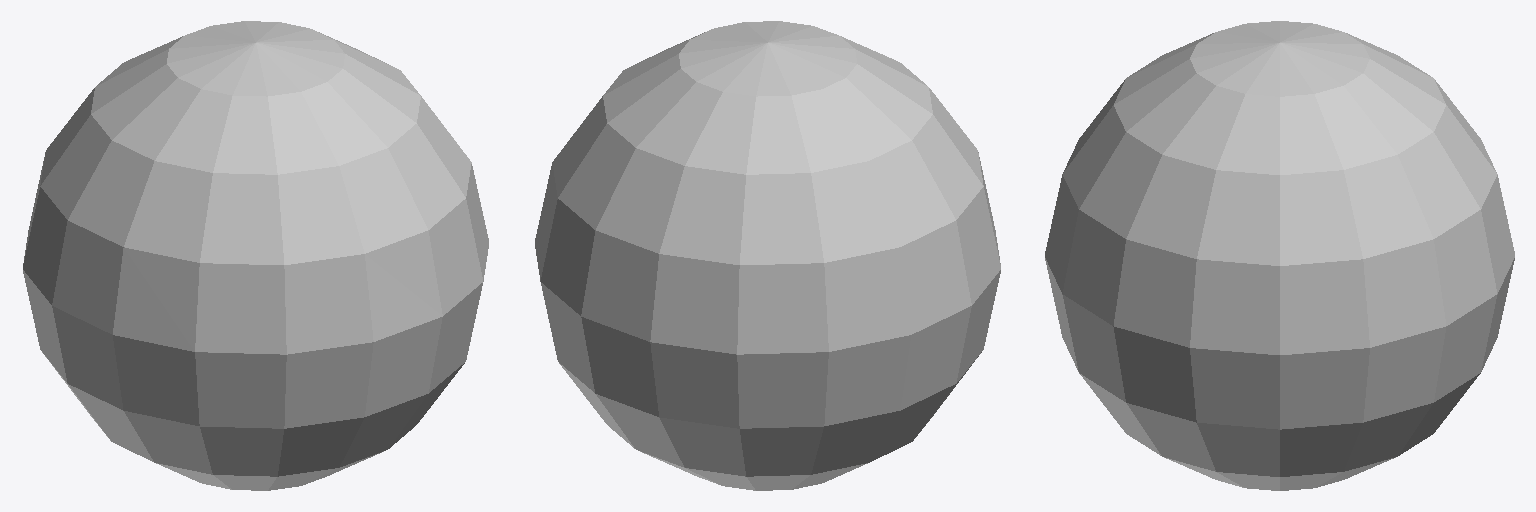
The model's file is unit_sphere.obj.
3 renders of one model, left to right at view 1: azimuth 30°, elevation 25°; view 2: azimuth 150°, elevation 25°; view 3: azimuth 270°, elevation 25°, orthographic.
Parts seen in each view (by area): view 1: Sphere001; view 2: Sphere001; view 3: Sphere001.
Boxes of the visible parts, x1=… form: Sphere001: x1=23, y1=21, x2=488, y2=490; Sphere001: x1=535, y1=21, x2=1000, y2=490; Sphere001: x1=1045, y1=21, x2=1514, y2=490.
Bounding box in the file's own units: 10 × 10 × 10.